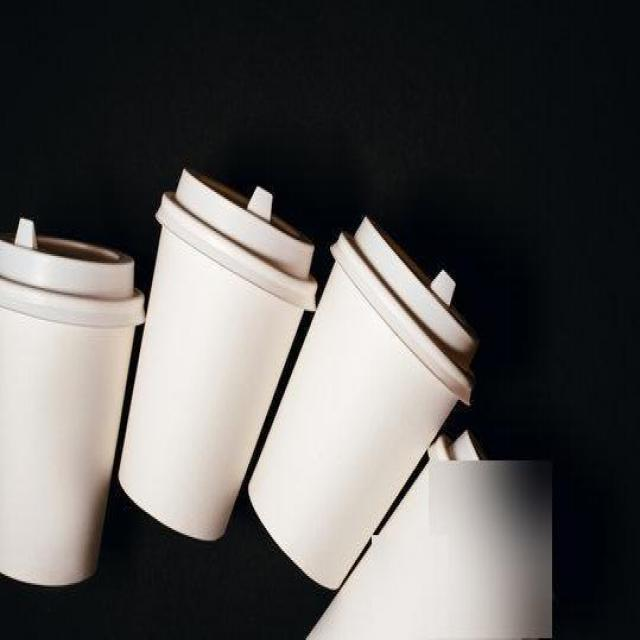cup-disposable: (244, 210, 484, 604), (116, 160, 322, 548), (0, 215, 146, 592)
